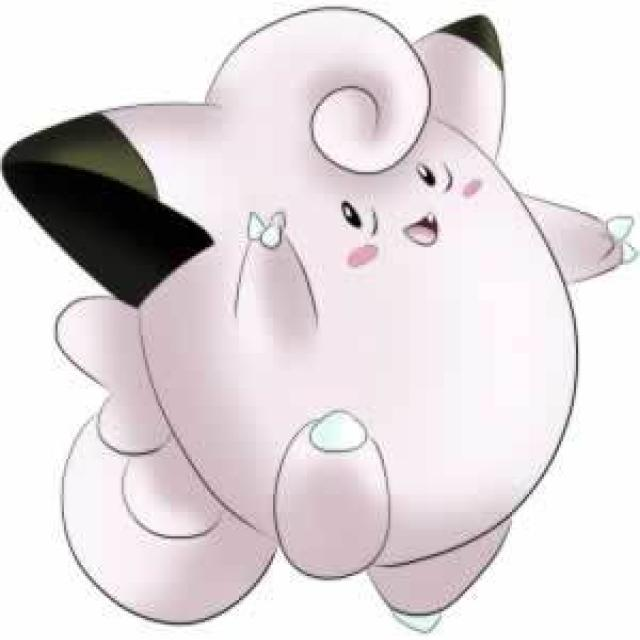Clefairy: (52, 2, 585, 627)
